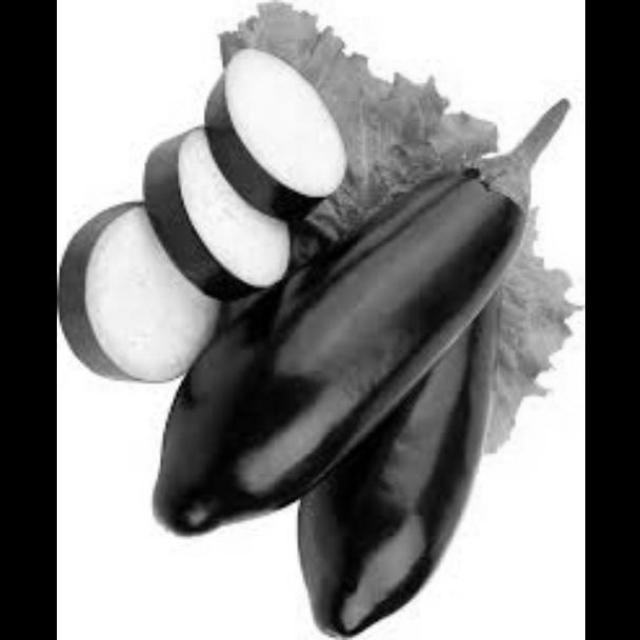ca tim: (135, 117, 574, 557), (64, 42, 336, 430), (341, 252, 518, 640)
